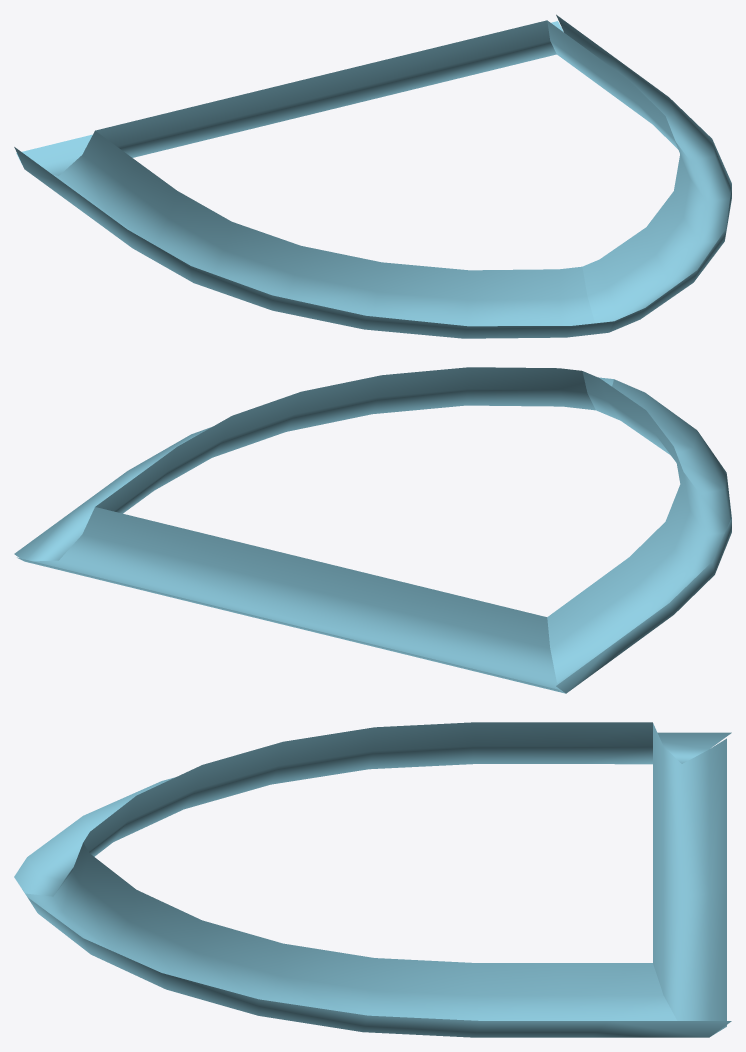
Rendered from Cath_window_frame.FBX.
3 views of the same model, one above another, from view 1: azimuth 30°, elevation 25°; view 2: azimuth 150°, elevation 25°; view 3: azimuth 270°, elevation 25° (orthographic). The views are drawn at different scales.
Parts seen in each view (by area): view 1: Cath_window_frame; view 2: Cath_window_frame; view 3: Cath_window_frame.
Boxes of the visible parts, <box> form: Cath_window_frame: <box>14,14,731,338</box>; Cath_window_frame: <box>14,367,731,693</box>; Cath_window_frame: <box>14,722,731,1037</box>.
Size of the model in its own units: 331 by 349 by 28.97.
